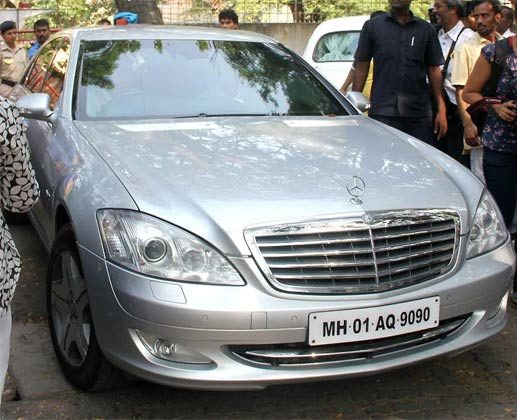numberplate: (297, 295, 439, 345)
